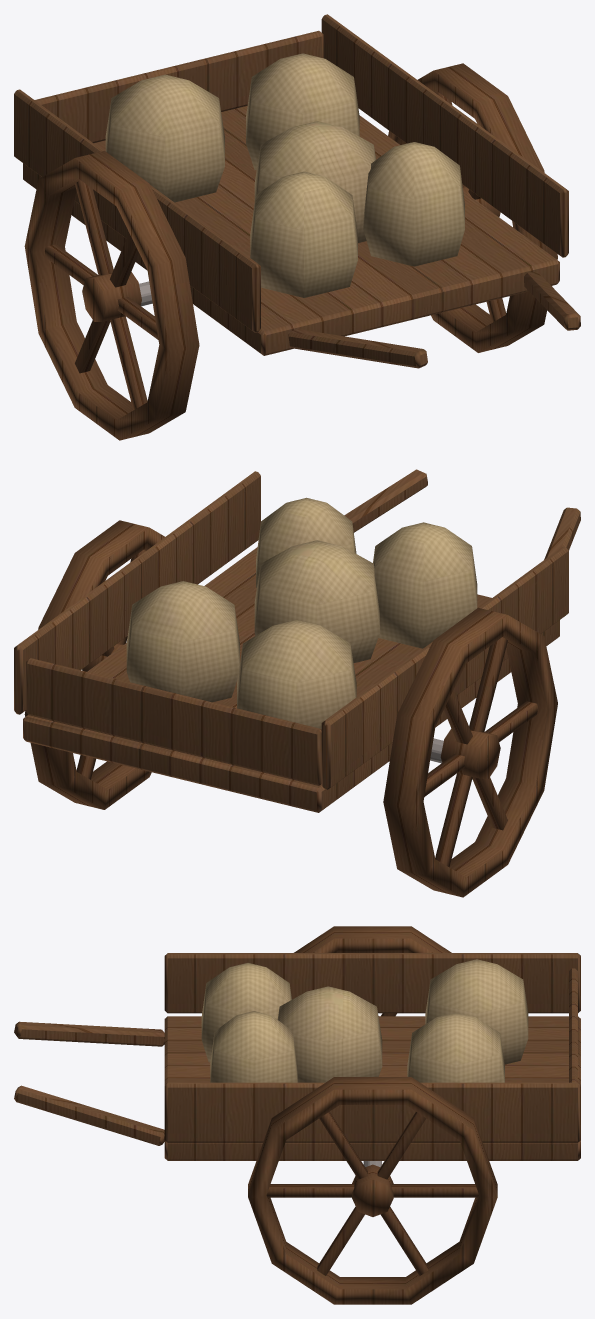
File: cart.glb
3 views of the same model, one above another, from view 1: azimuth 30°, elevation 25°; view 2: azimuth 150°, elevation 25°; view 3: azimuth 270°, elevation 25° (orthographic). The views are drawn at different scales.
Parts seen in each view (by area): view 1: prop.cart; view 2: prop.cart; view 3: prop.cart.
Part boxes in pixels (x1=…): prop.cart: x1=14, y1=14, x2=580, y2=440; prop.cart: x1=14, y1=469, x2=580, y2=897; prop.cart: x1=14, y1=926, x2=580, y2=1304.
Bounding box in the file's own units: 1.32 × 0.8594 × 1.91.
3 materials, 3 textured.
